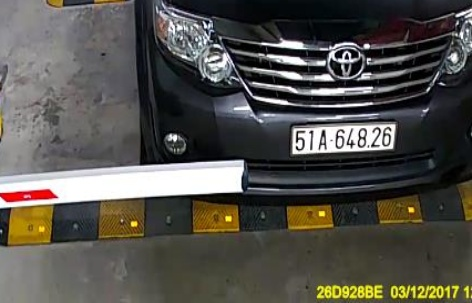plate: (287, 117, 402, 159)
